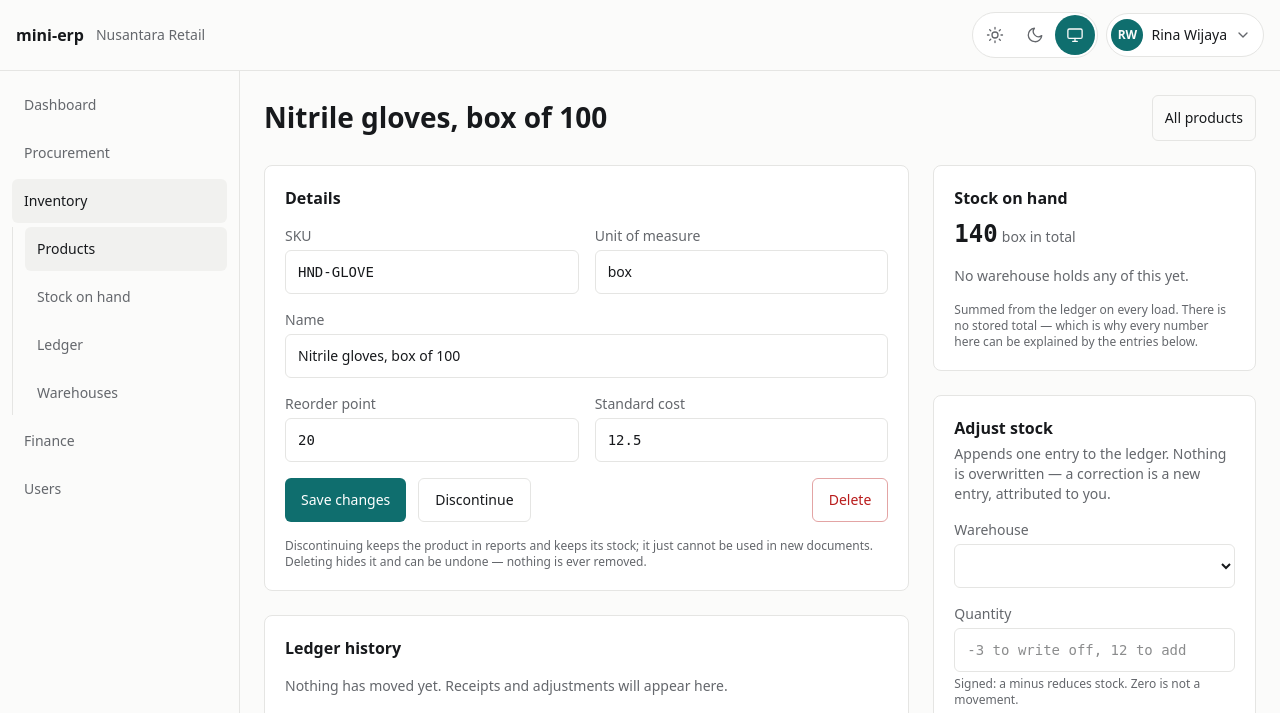
Test: FE23 — the edit form pre-populates from the detail response › sends nothing at all when nothing was touched
Expected: the link "mini-erp" is shown, [16,23,84,47]
Expected: the field labelled "SKU" is shown, [285,250,579,294]
Step 1. Click the button "Save changes" → (346, 500), box [285,478,406,522]
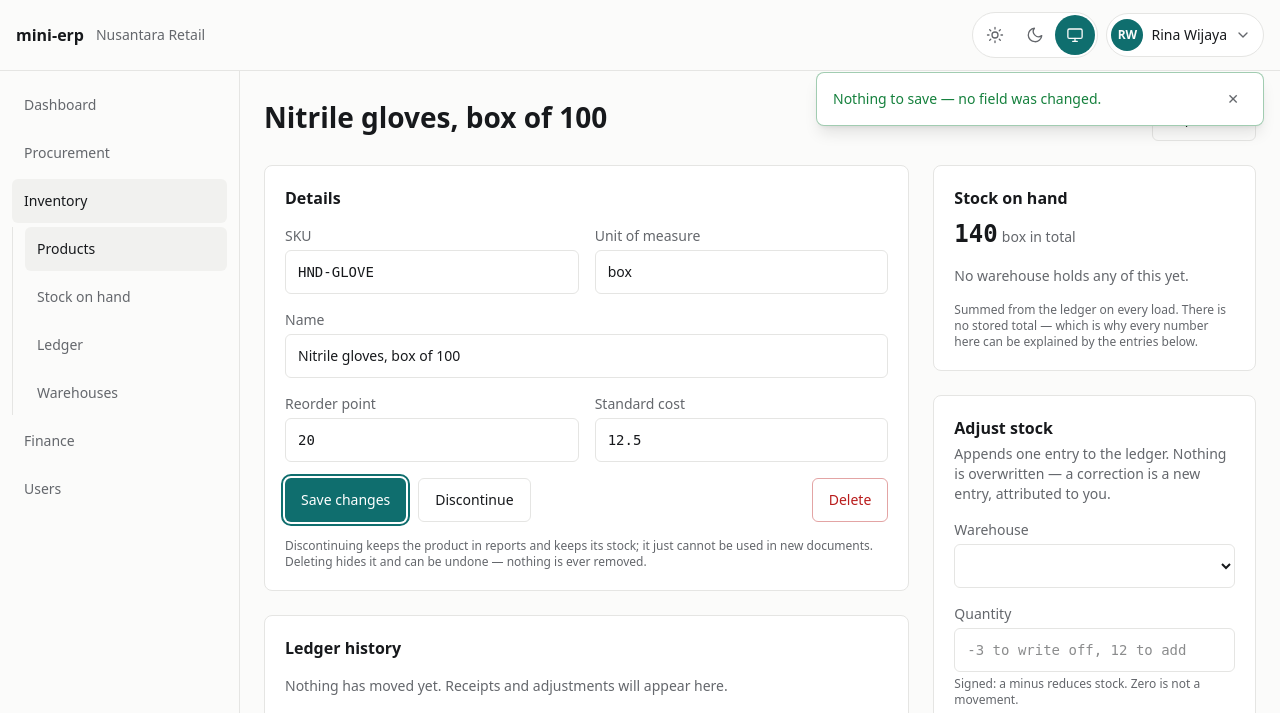
Expected: the text "Nothing to save — no field was changed." is shown, [833,89,1101,108]
